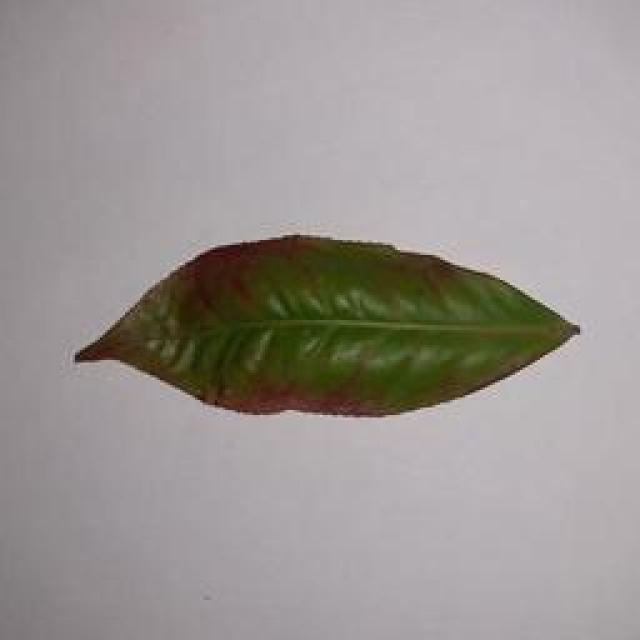Red Leaf Spot: (68, 235, 587, 426)
